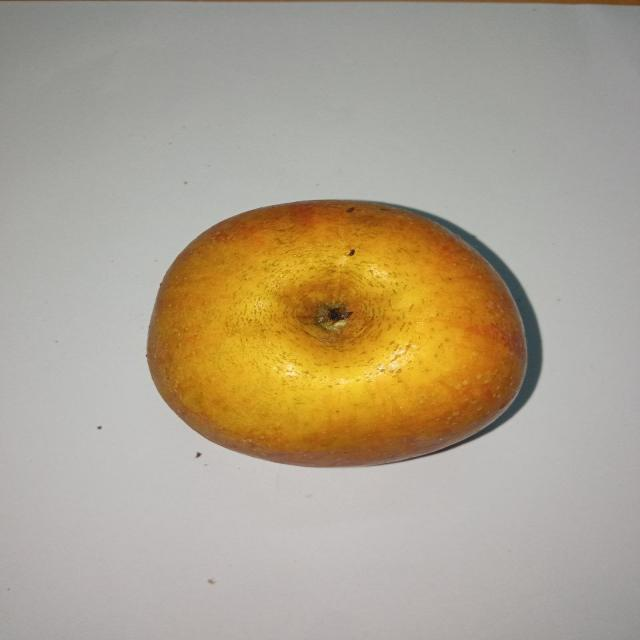fresh_apple: (143, 200, 527, 468)
